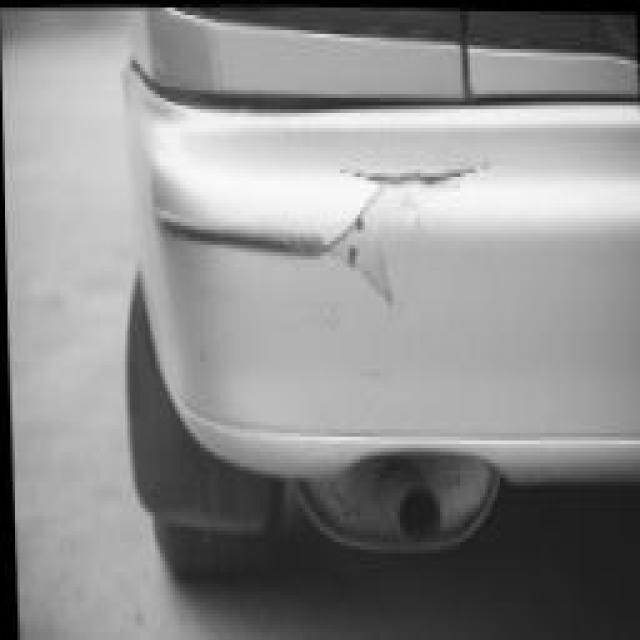Bumper: (132, 68, 639, 517)
